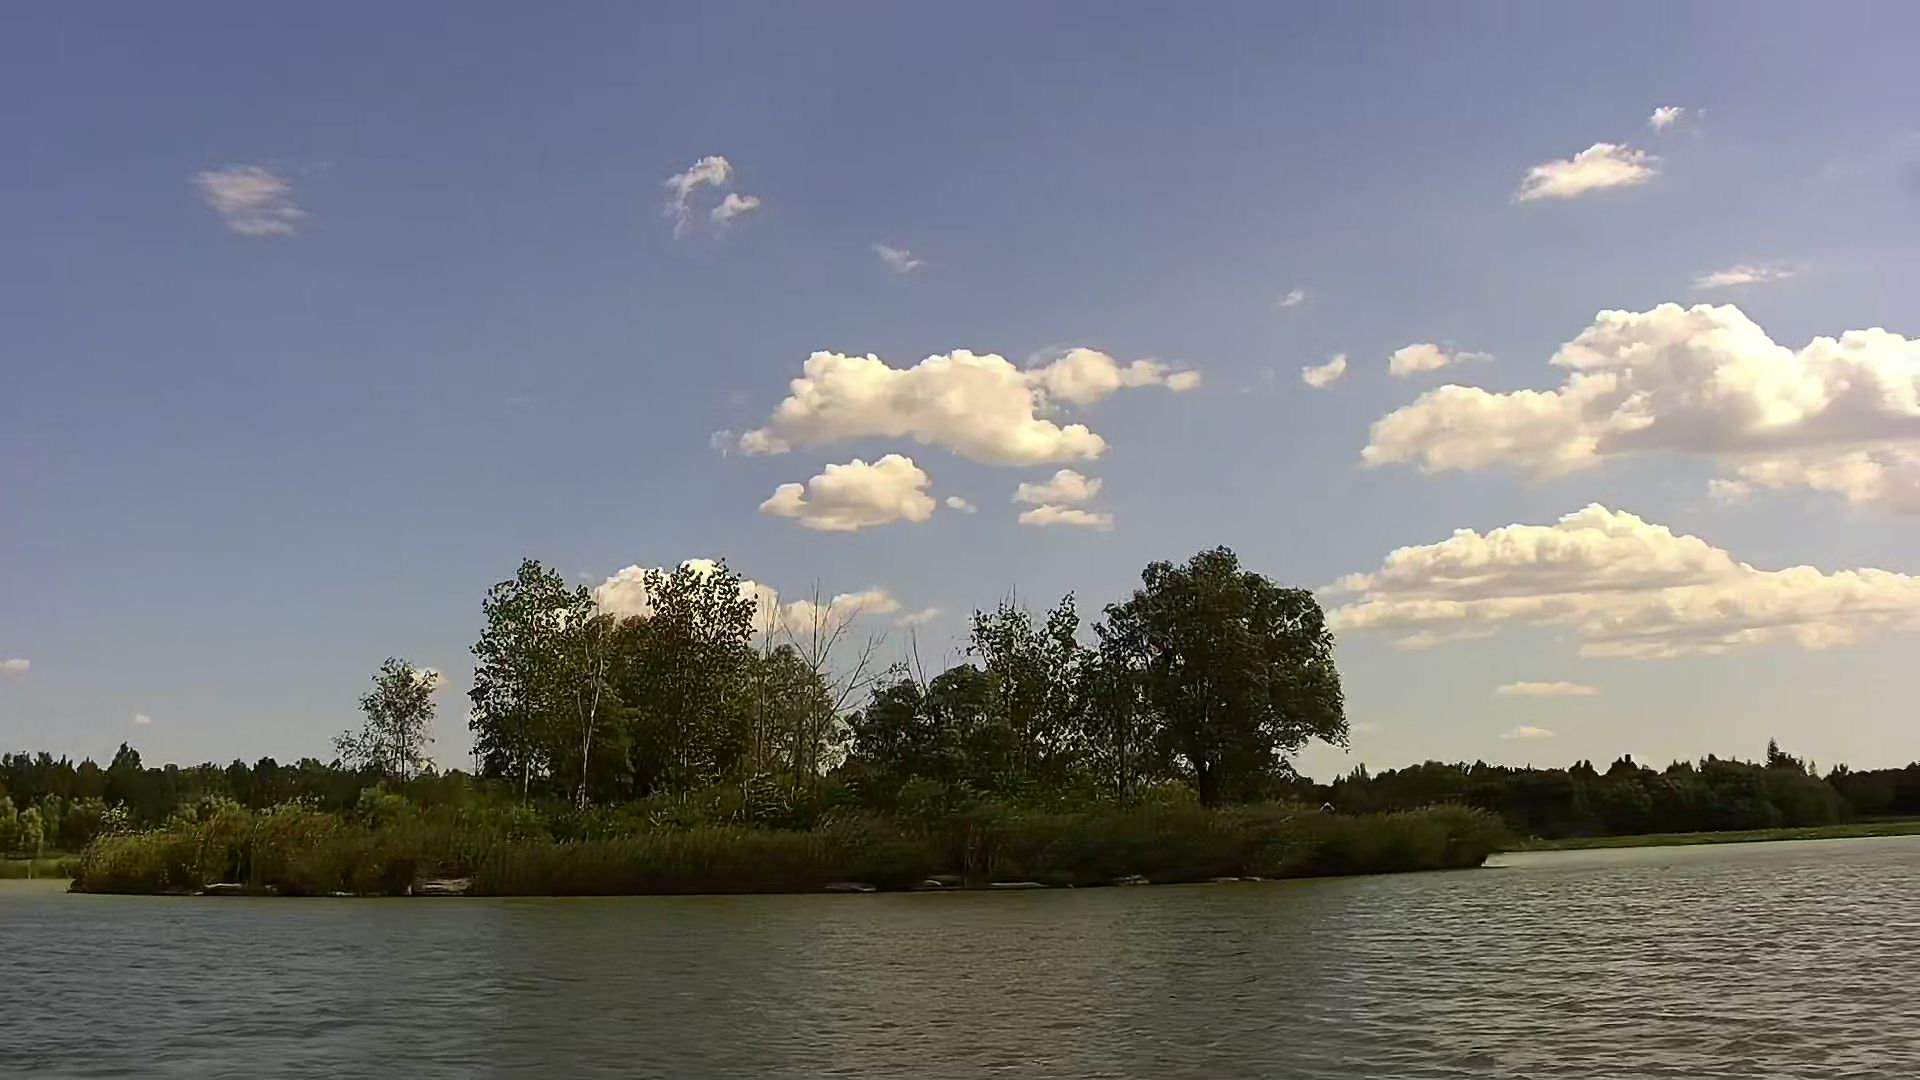rock: (409, 877, 469, 895)
